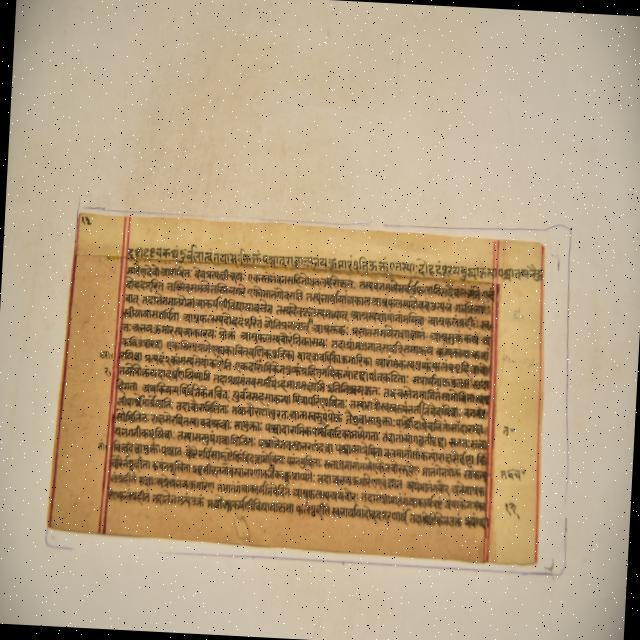text_paragraph: (48, 214, 542, 562)
